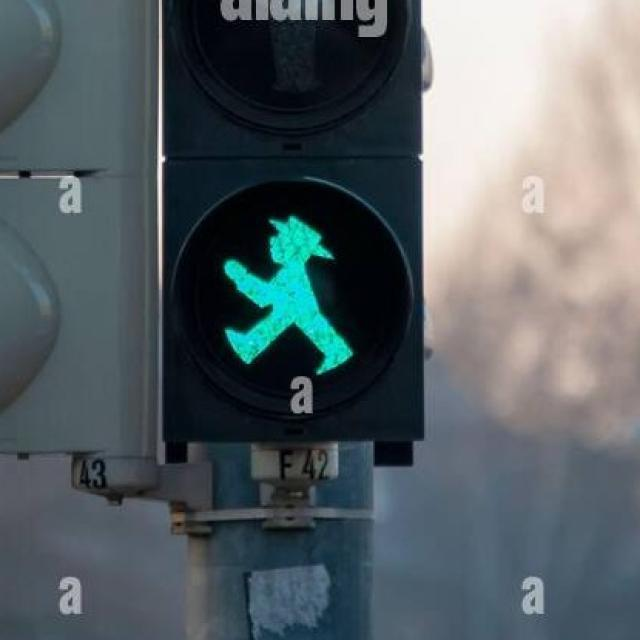geen-crossing: (216, 204, 364, 374)
